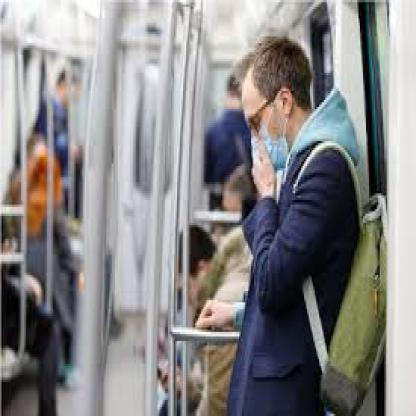Wearing_Mask: (227, 57, 310, 182)
